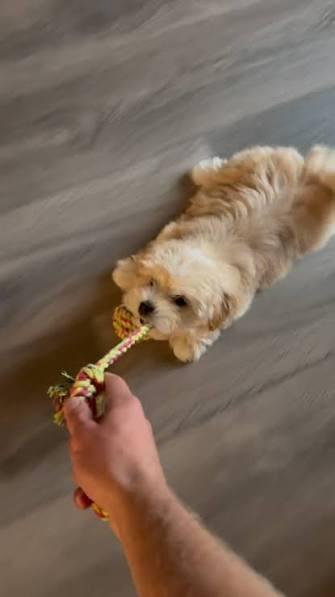puppy-dog: (115, 142, 335, 363)
